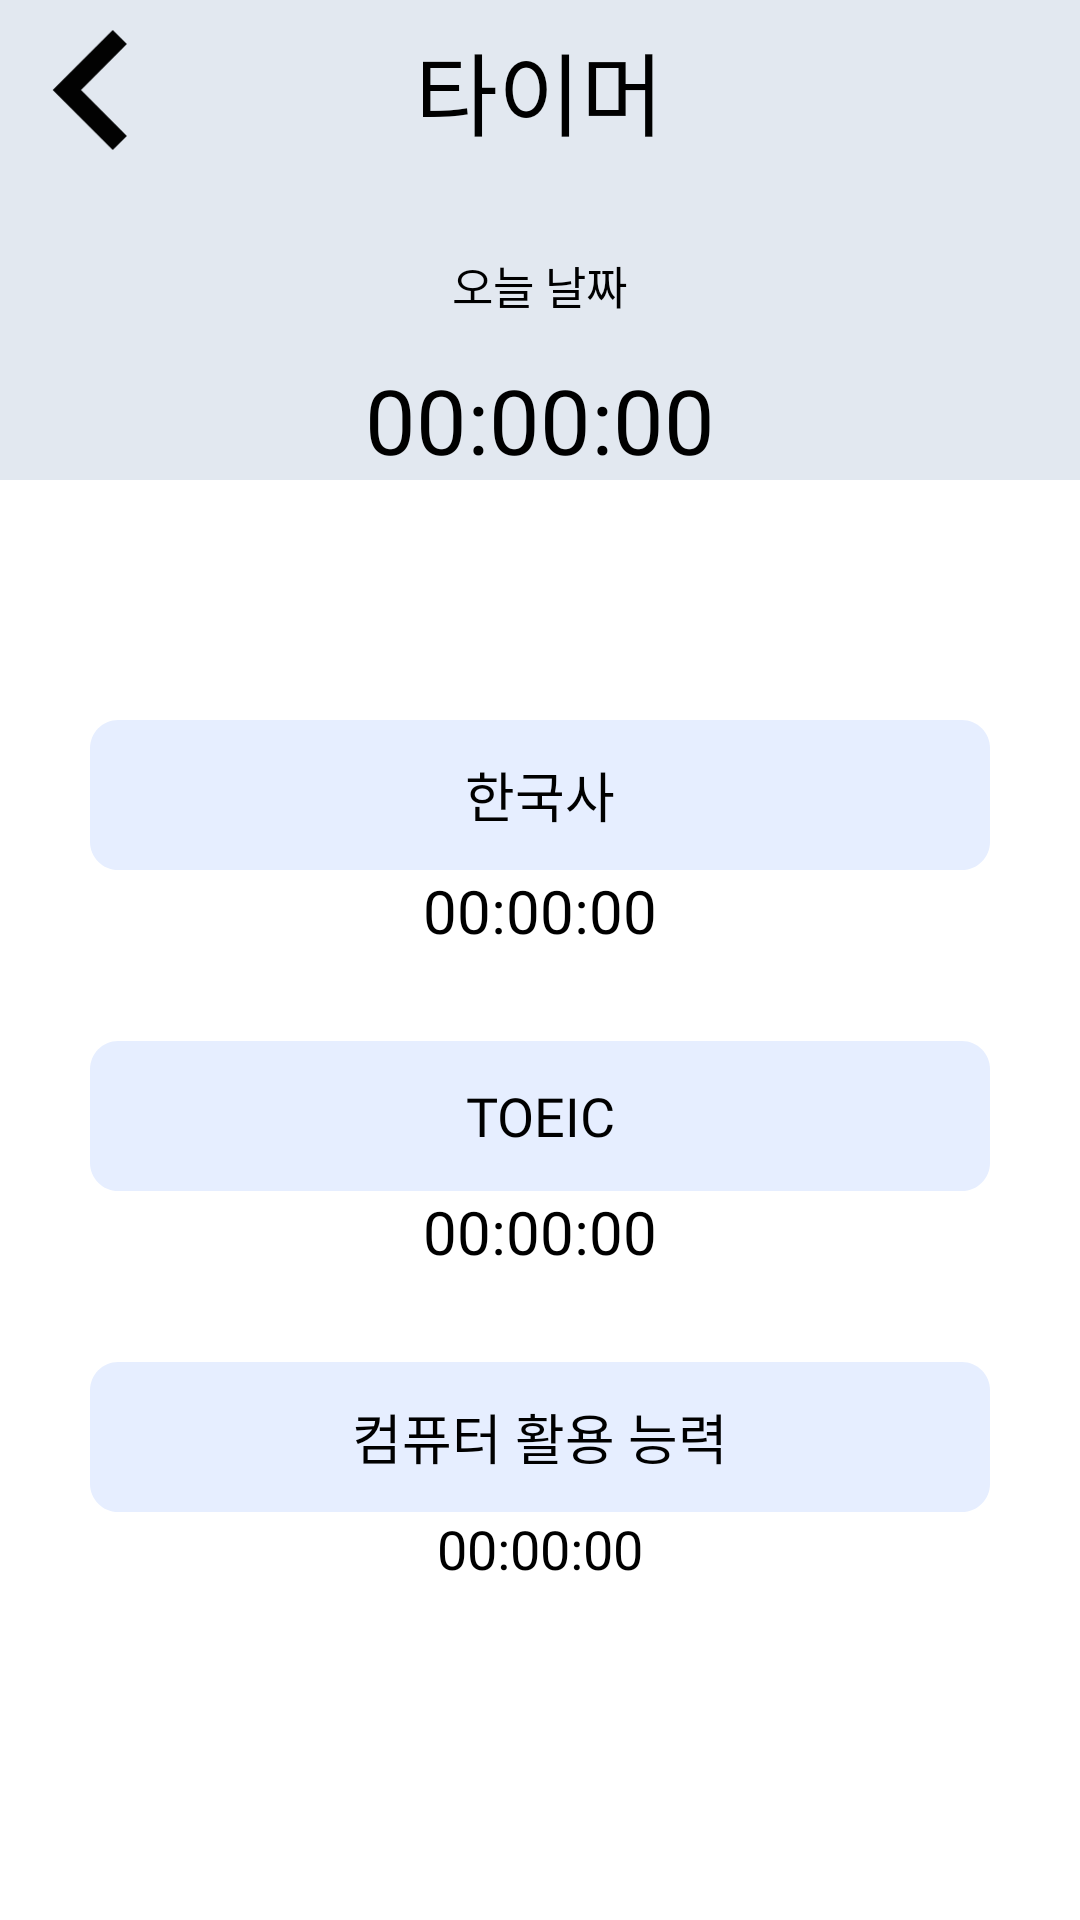

Icons on this 1080px×1920px Android screen, each with the point to tap as (x=x, y=y):
back: (x=90, y=90)
